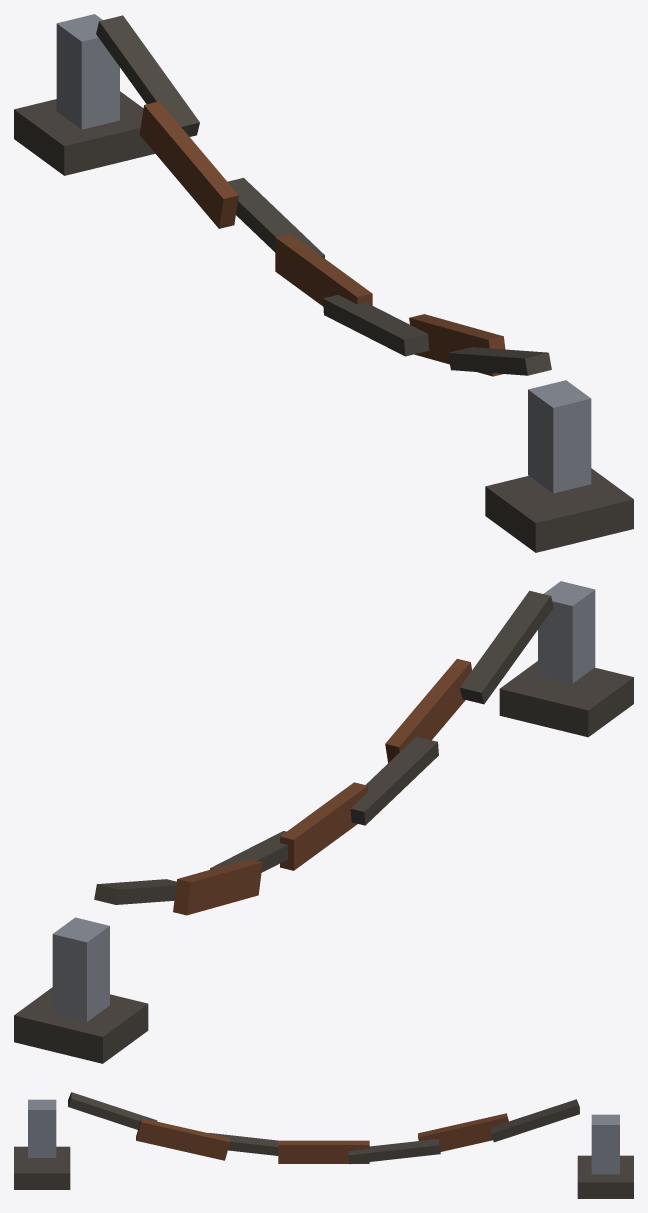
File: salvage_chain.glb
3 views of the same model, one above another, from view 1: azimuth 30°, elevation 25°; view 2: azimuth 150°, elevation 25°; view 3: azimuth 270°, elevation 25° (orthographic). The views are drawn at different scales.
Size of the model in its own units: 0.12 by 0.1288 by 0.88.
